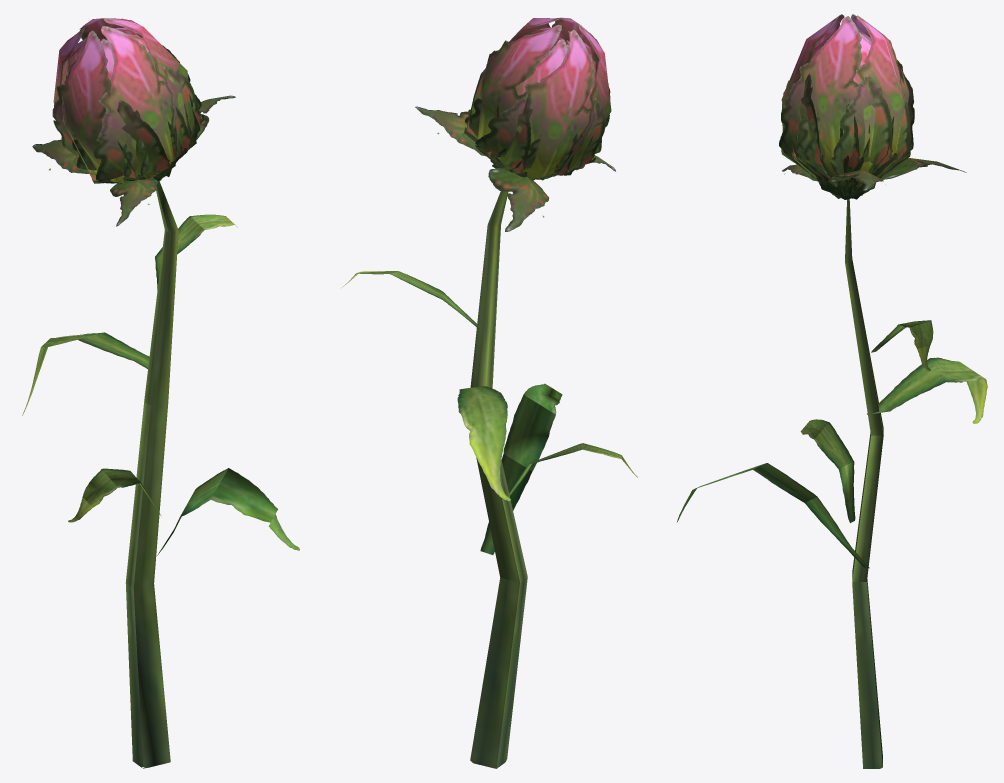
3 views of the same model, side by side, from view 1: azimuth 30°, elevation 25°; view 2: azimuth 150°, elevation 25°; view 3: azimuth 270°, elevation 25° (orthographic). The views are drawn at different scales.
Parts seen in each view (by area): view 1: 293616; view 2: 293616; view 3: 293616.
Boxes of the visible parts, x1=… form: 293616: x1=22, y1=18, x2=299, y2=768; 293616: x1=341, y1=17, x2=637, y2=768; 293616: x1=677, y1=14, x2=987, y2=768.
Size of the model in its own units: 55.24 by 65.26 by 163.
